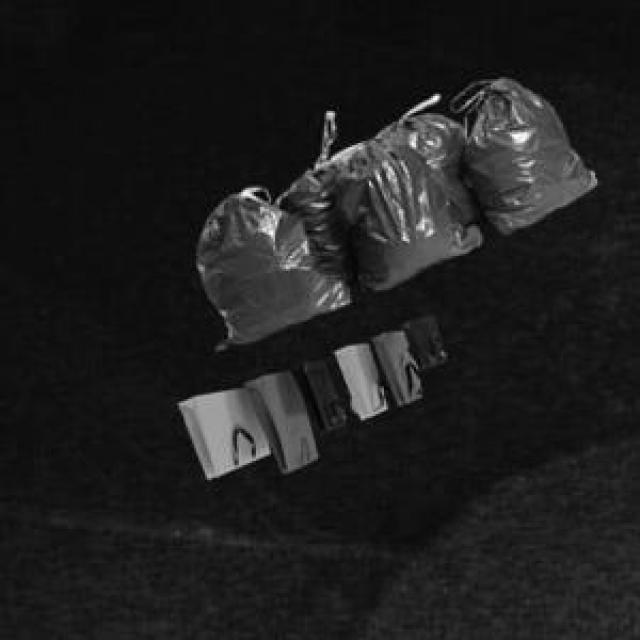miscellaneous trash: (194, 75, 593, 346)
paper: (175, 312, 442, 474)
